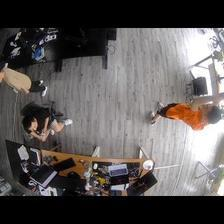normal: (149, 98, 222, 133), (18, 105, 74, 144), (1, 66, 48, 98)
